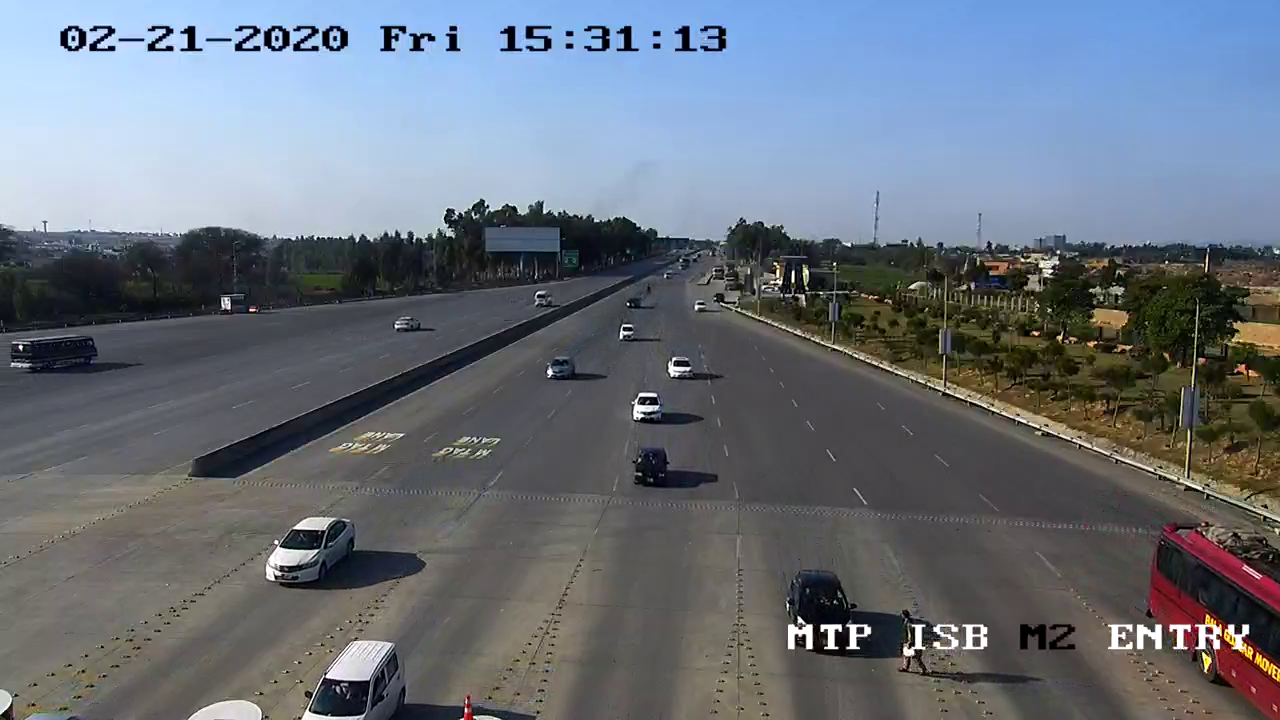f1: (245, 506, 371, 606), (623, 380, 679, 434), (620, 442, 675, 495)
